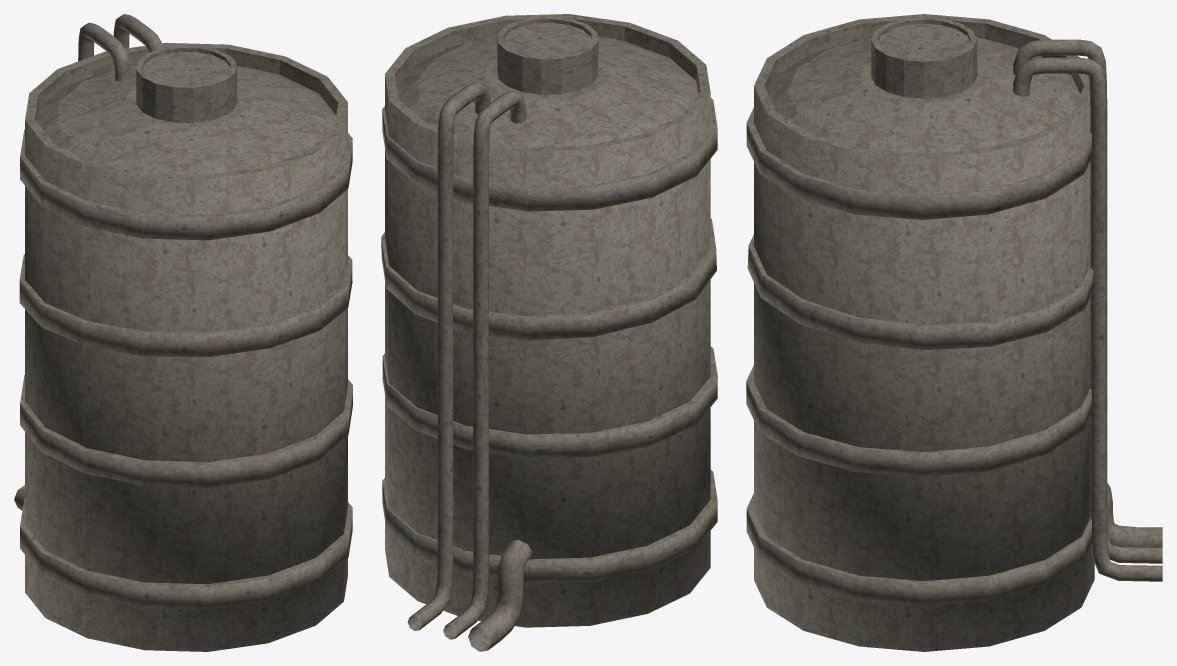
The model's file is refinery_tank01.glb.
The picture shows the model from 3 angles, left to right: view 1: azimuth 30°, elevation 25°; view 2: azimuth 150°, elevation 25°; view 3: azimuth 270°, elevation 25°; orthographic projection. The views are drawn at different scales.
Parts seen in each view (by area): view 1: Prop.refinery_tank01; view 2: Prop.refinery_tank01; view 3: Prop.refinery_tank01.
Boxes of the visible parts, box(x1,y1,x2,y2) form: Prop.refinery_tank01: box(14, 14, 352, 651); Prop.refinery_tank01: box(381, 14, 717, 651); Prop.refinery_tank01: box(746, 14, 1162, 651).
Size of the model in its own units: 4.95 by 8.4 by 5.87.
Materials: 1 (1 with a texture image).
